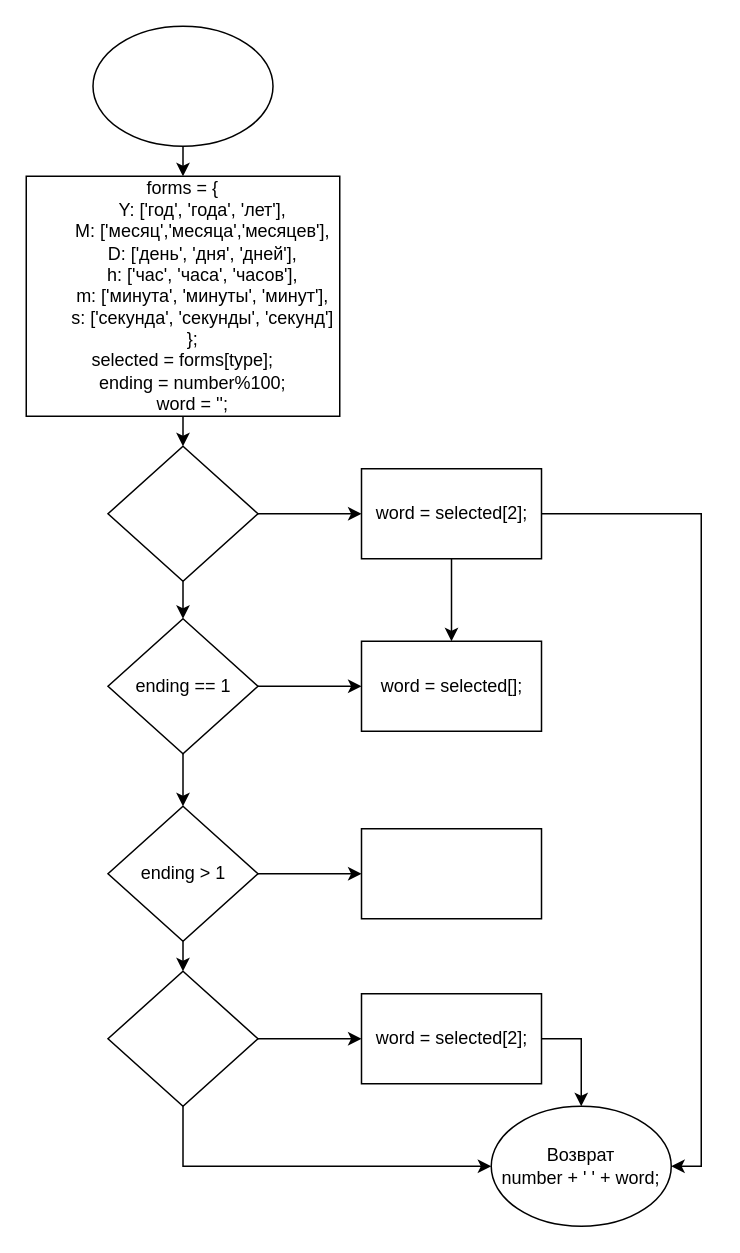
This 740x1253 diagram has some shape labels left out. The centre of each missing label's shape, as x and y in pixels:
ending > 10 && ending < 20: pixel 182 513
ending > 4 || ending == 0: pixel 182 1038
word = selected[1];: pixel 451 873
Запуск number, type: pixel 182 85
